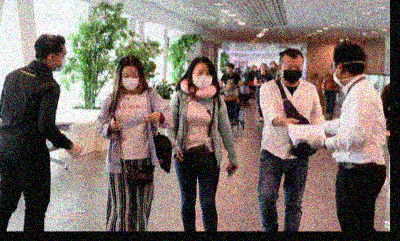with_mask: (283, 62, 305, 85), (192, 68, 213, 90), (121, 71, 141, 92), (53, 49, 67, 72), (333, 61, 344, 89), (271, 62, 276, 68), (254, 66, 258, 72)
without_mask: (261, 63, 268, 72), (226, 81, 233, 89), (226, 66, 233, 73)
